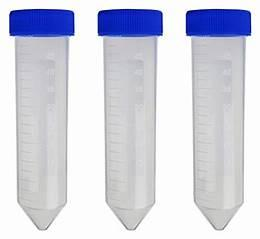Test tube: (180, 12, 254, 236), (3, 11, 76, 235), (92, 4, 162, 235)
